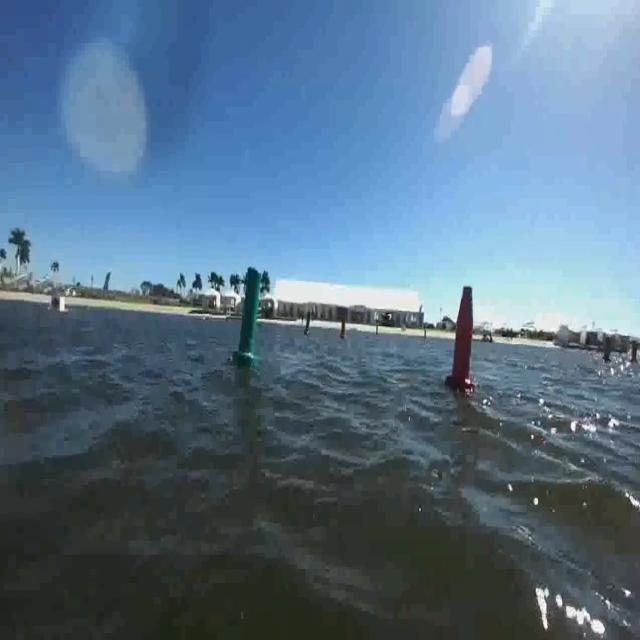green-column-buoy: (234, 264, 266, 364)
red-column-buoy: (448, 281, 477, 393)
